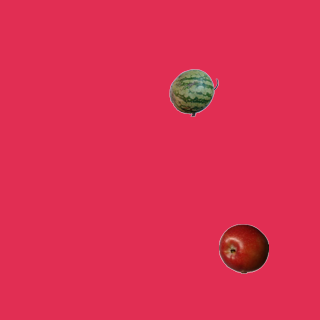Apple Braeburn: (218, 223, 268, 273)
Watermelon: (168, 67, 218, 117)
